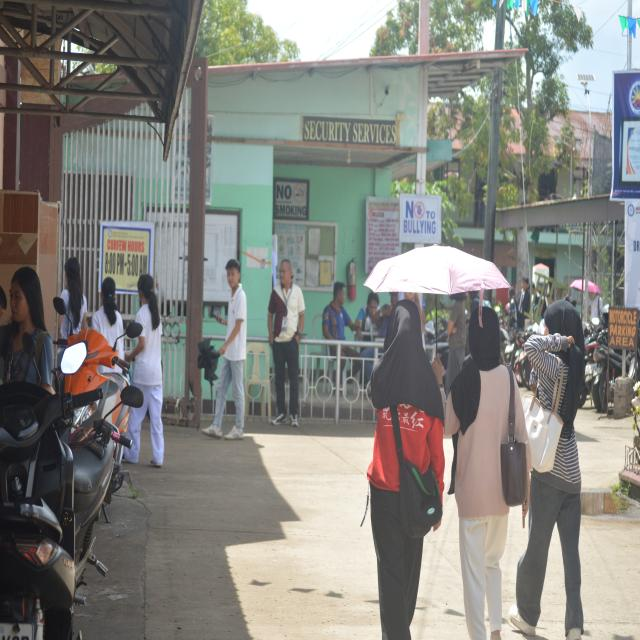person: (445, 308, 531, 639), (368, 300, 444, 639), (510, 301, 584, 639), (203, 259, 247, 440), (125, 274, 164, 467), (0, 267, 54, 393), (268, 259, 304, 426), (92, 277, 124, 359), (59, 257, 87, 339), (323, 282, 361, 340), (445, 293, 466, 394), (517, 276, 531, 329)
